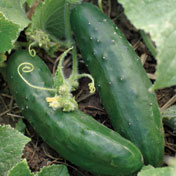cucumber: (3, 45, 146, 175), (67, 0, 165, 167)
